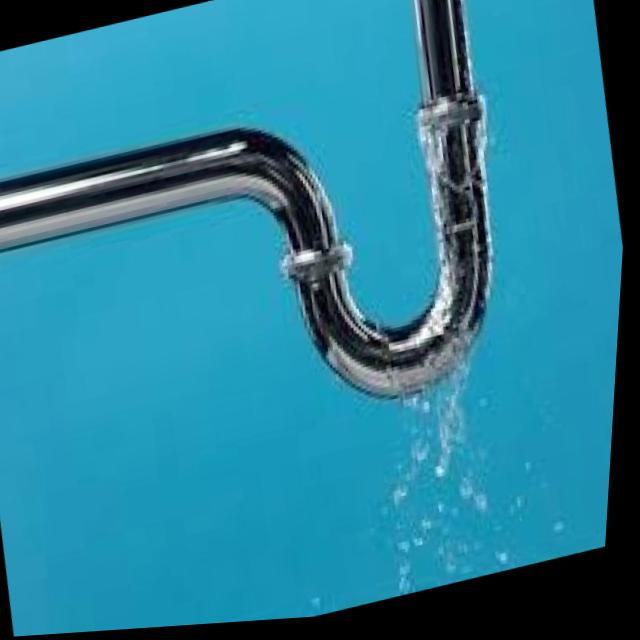leak: (354, 116, 608, 587)
